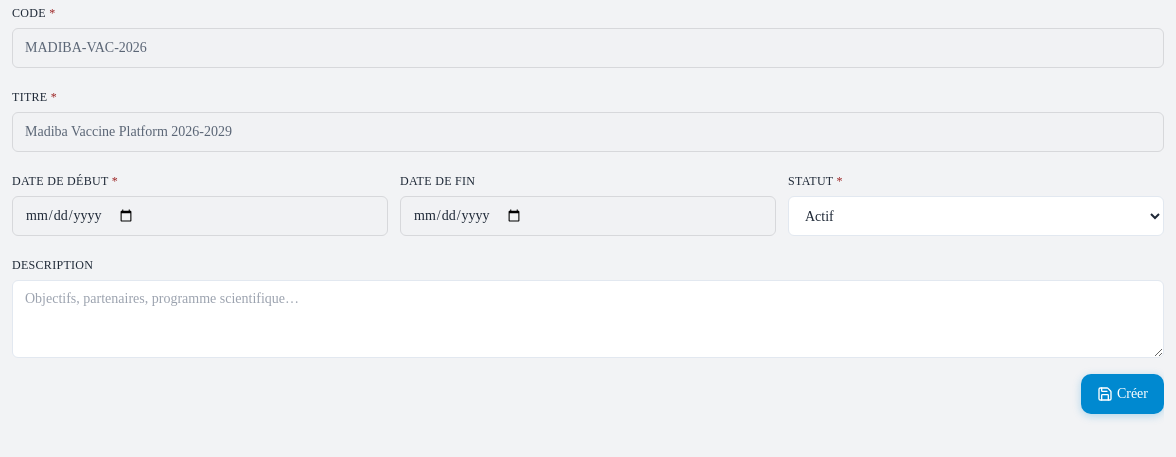
Test case: ProjectForm › validation : endDate < startDate → erreur ciblée
The width and height of the screenshot is (1176, 457).
In the field with test id "project-code-input": (588, 48) [12,28,1164,68], type "PALU-2026"
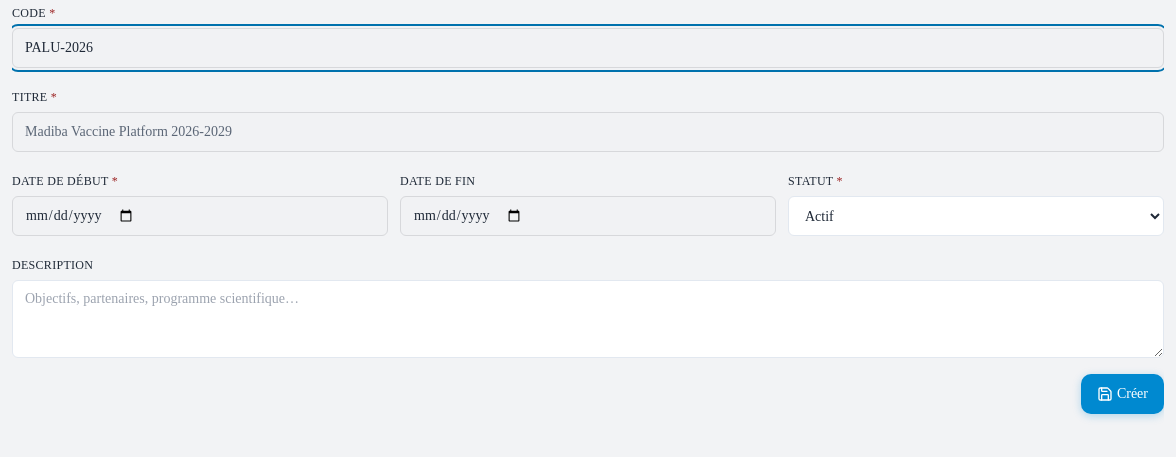
In the field with test id "project-title-input": (588, 132) [12,112,1164,152], type "Paludisme Dakar 2026"
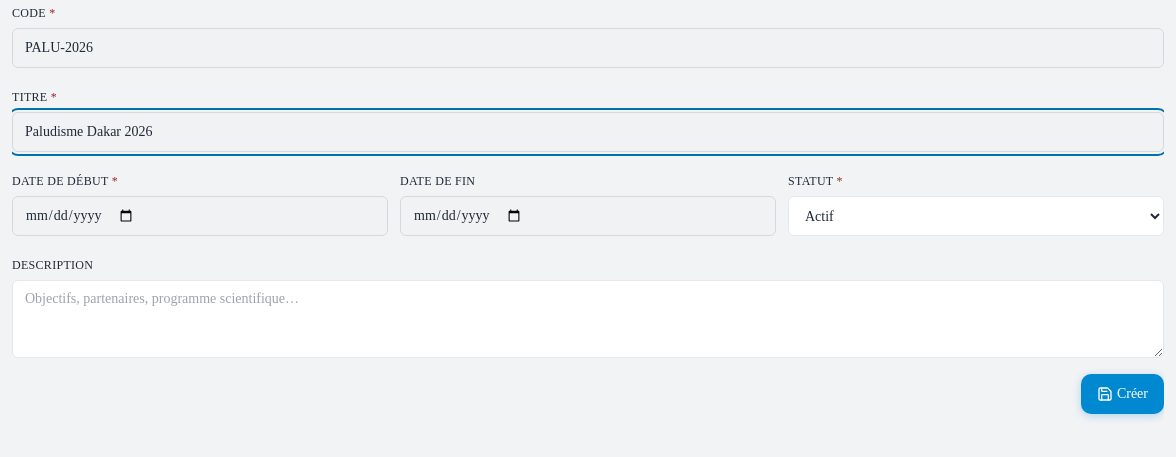
In the date field with test id "project-startdate-input": (200, 216) [12,196,388,236], type "2026-06-01"
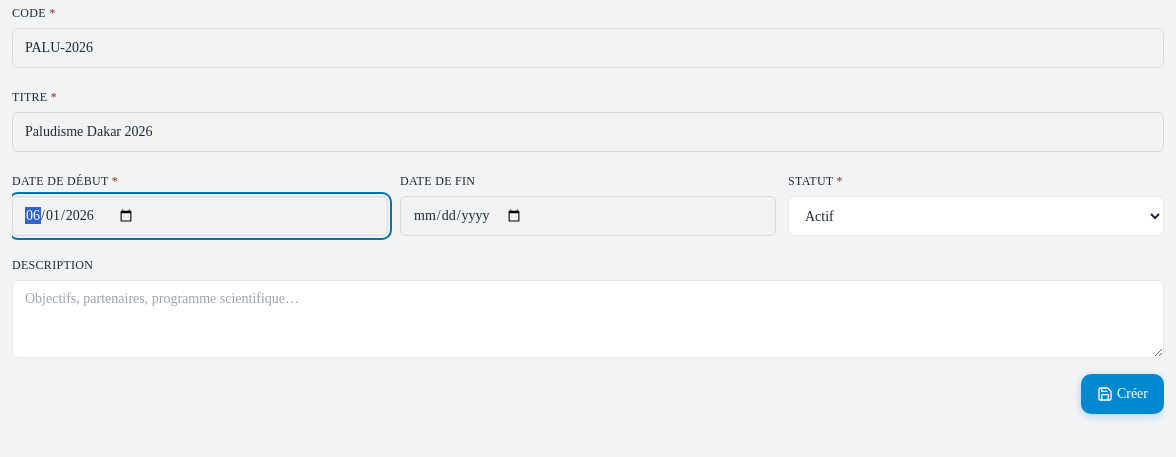
In the date field with test id "project-enddate-input": (588, 216) [400,196,776,236], type "2026-01-01"
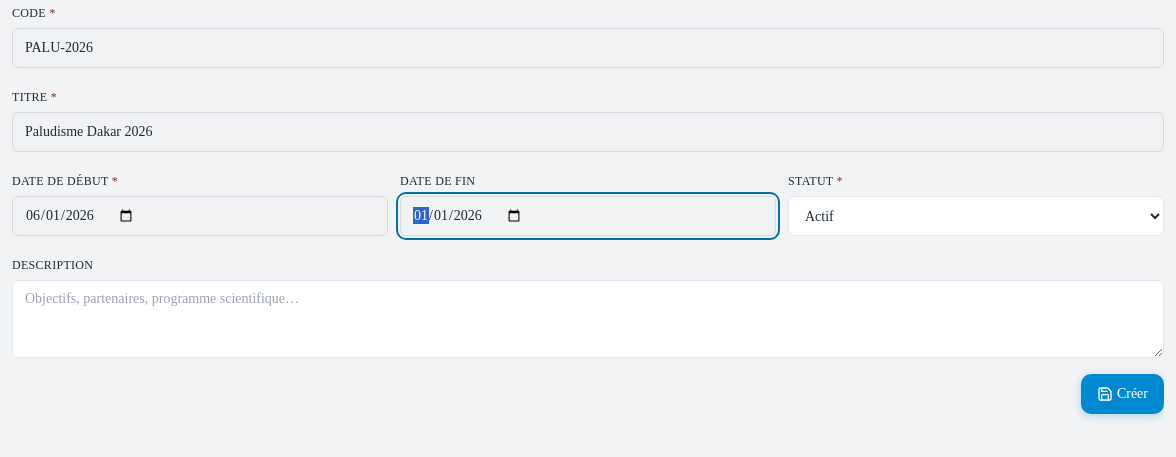
Click the button with test id "project-form-submit": (1122, 394) [1081,374,1164,414]
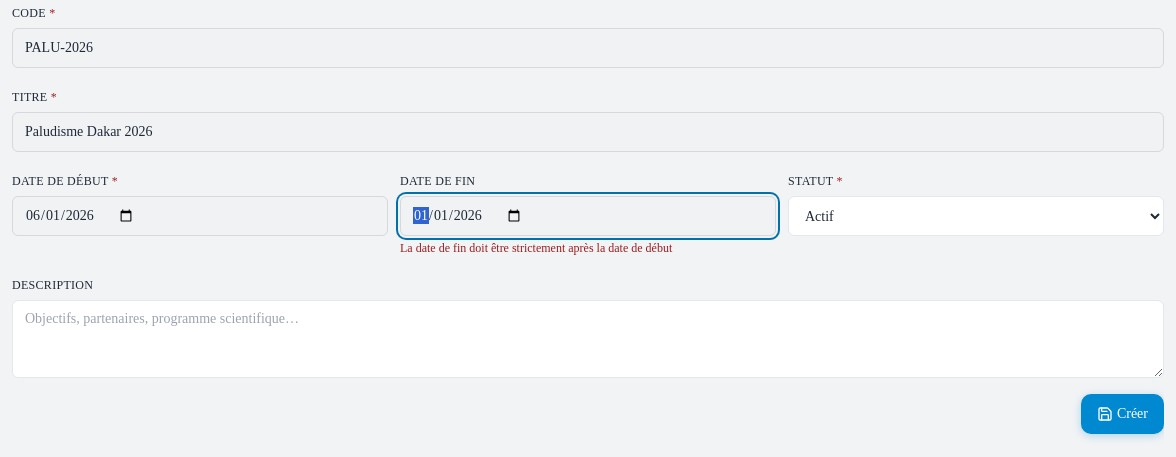
Check: the text "La date de fin doit être strictement après la date de début" is shown, box [400,241,672,255]
